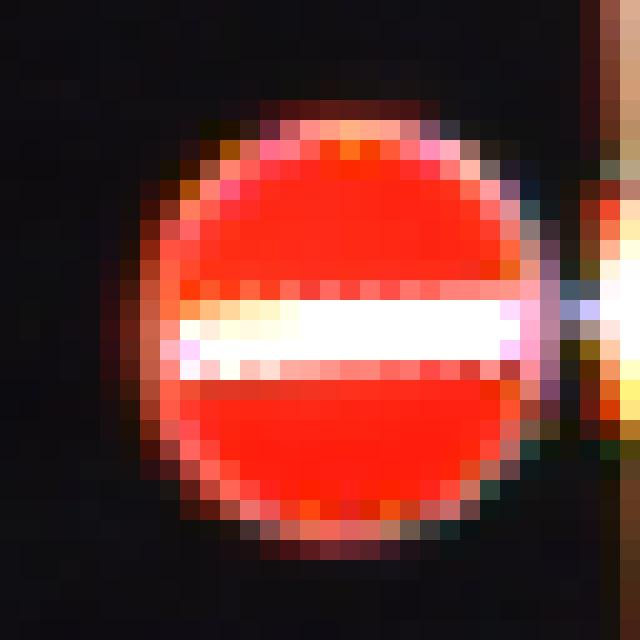No Entry: (121, 101, 521, 541)
